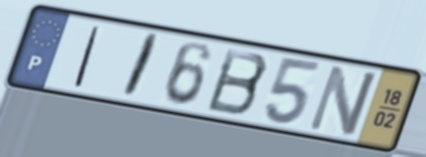5: (262, 56, 326, 128)
6: (161, 40, 215, 109)
B: (203, 45, 272, 119)
I: (117, 31, 164, 101), (71, 23, 104, 91)
N: (303, 62, 381, 139)
